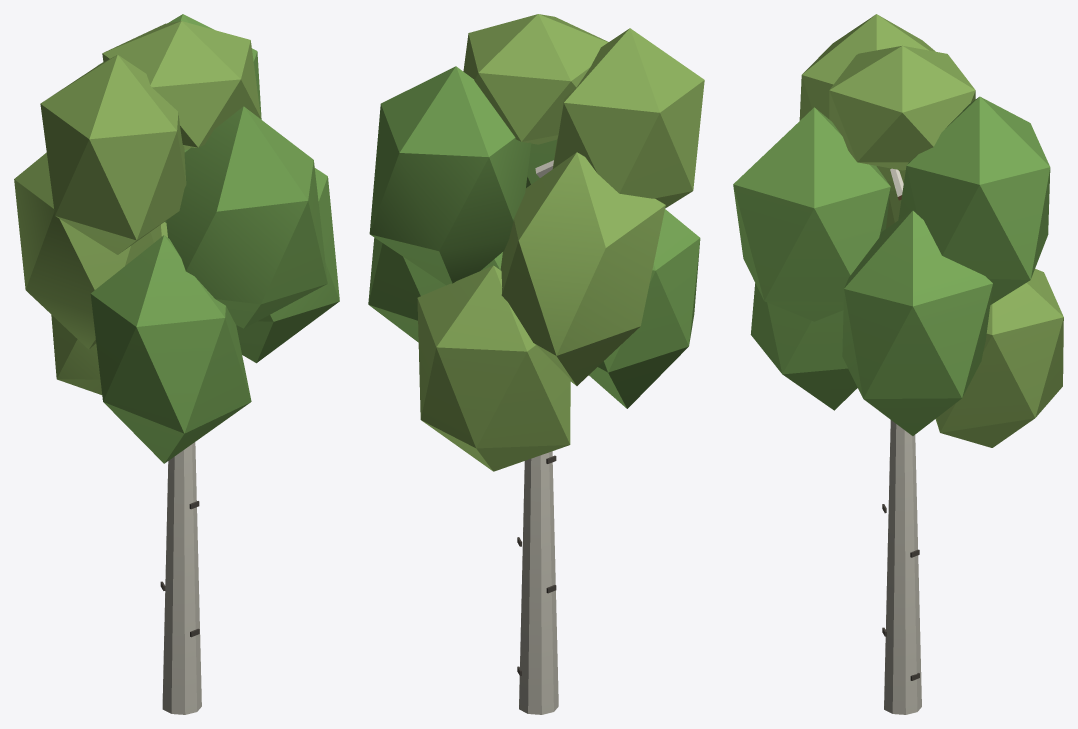
The model's file is tree_birch_c.glb.
3 views of the same model, side by side, from view 1: azimuth 30°, elevation 25°; view 2: azimuth 150°, elevation 25°; view 3: azimuth 270°, elevation 25° (orthographic). The views are drawn at different scales.
Visible parts, largest first — view 1: tree_birch_c; view 2: tree_birch_c; view 3: tree_birch_c.
Boxes of the visible parts, <box> form: tree_birch_c: <box>14,14,339,714</box>; tree_birch_c: <box>368,14,704,714</box>; tree_birch_c: <box>733,14,1063,714</box>.
Size of the model in its own units: 4.15 by 9.32 by 4.23.
